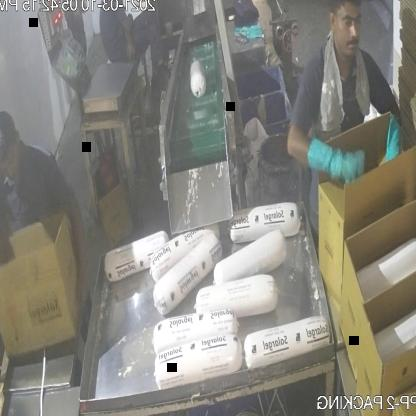glove: (298, 124, 372, 200)
no_glove: (64, 176, 89, 335), (0, 219, 7, 293)
